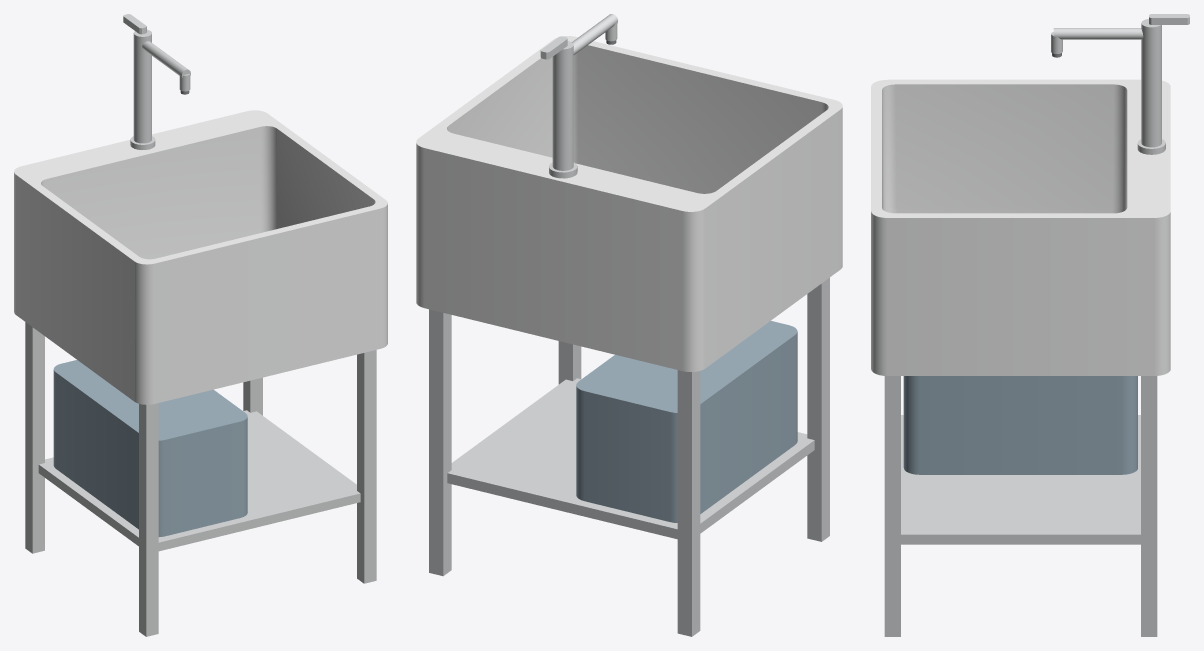
The picture shows the model from 3 angles, left to right: view 1: azimuth 30°, elevation 25°; view 2: azimuth 150°, elevation 25°; view 3: azimuth 270°, elevation 25°; orthographic projection. The views are drawn at different scales.
Parts seen in each view (by area): view 1: Chậu giặt Rộng=600; Sâu=550; view 2: Chậu giặt Rộng=600; Sâu=550; view 3: Chậu giặt Rộng=600; Sâu=550.
Part boxes in pixels (<box>): Chậu giặt Rộng=600; Sâu=550: <box>14,14,387,636</box>; Chậu giặt Rộng=600; Sâu=550: <box>416,14,842,636</box>; Chậu giặt Rộng=600; Sâu=550: <box>871,14,1189,636</box>.
Bounding box in the file's own units: 0.6 × 1.13 × 0.585.
